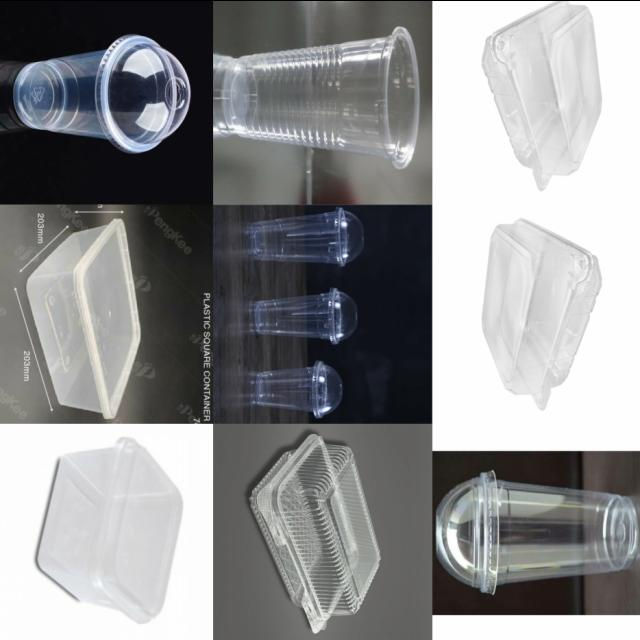plastik: (219, 27, 419, 168), (38, 436, 183, 623), (250, 433, 381, 632), (436, 470, 639, 593), (27, 218, 140, 419), (483, 218, 602, 408), (483, 0, 602, 189), (13, 34, 190, 153), (250, 207, 364, 264), (253, 287, 357, 343), (255, 359, 342, 417)
